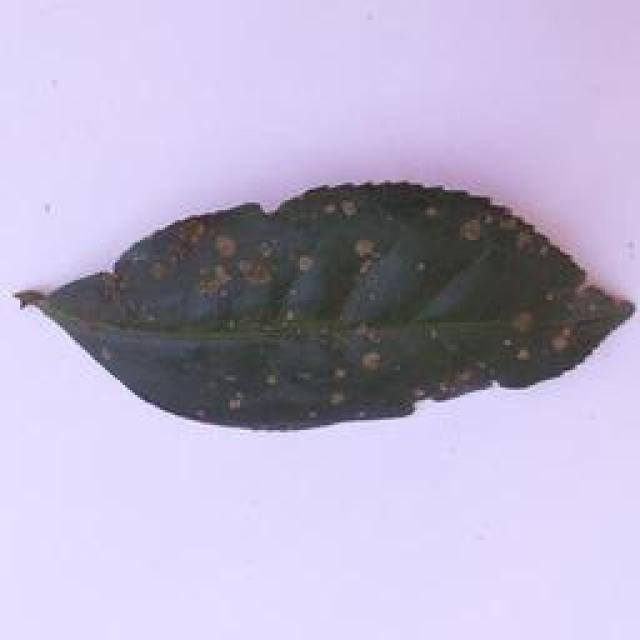Algal Leaf Spot: (10, 166, 633, 439)
